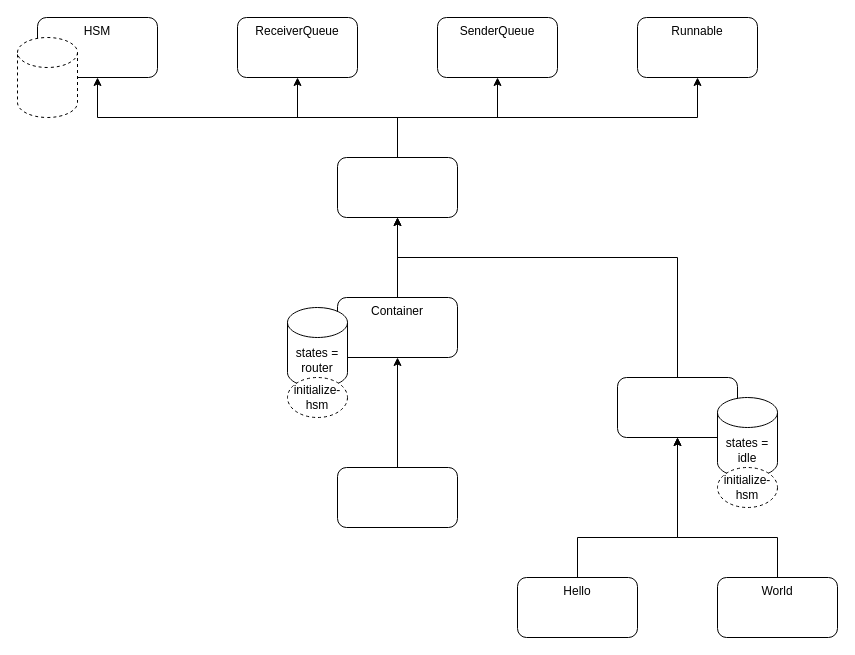
Image size: 855x655. Some labels were removed from this diagram. The centre of each missing label's shape, as x and y in pixels:
EH: the point at 397,187
HelloWorld: the point at 397,497
Procedure: the point at 677,407
states = ???: the point at 47,77
